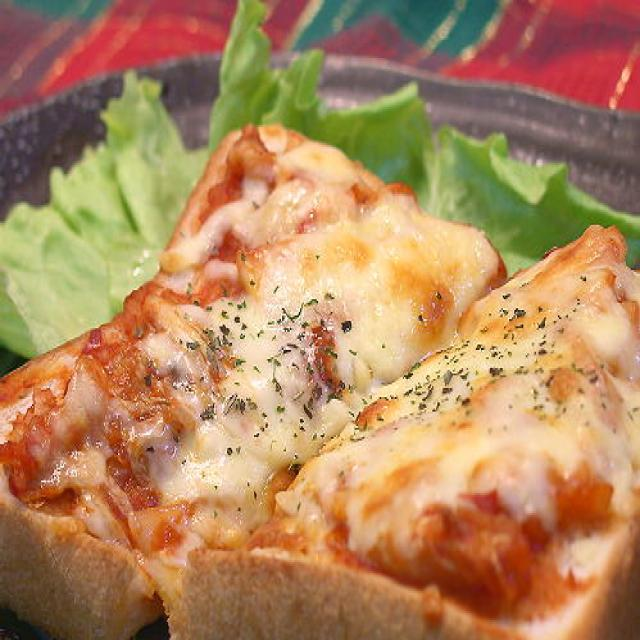面包点心: (0, 103, 640, 640)
